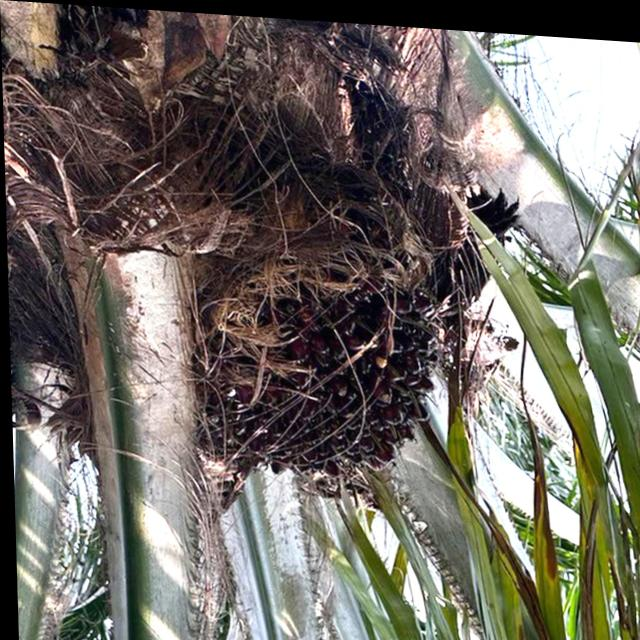ripe: (227, 264, 455, 503)
